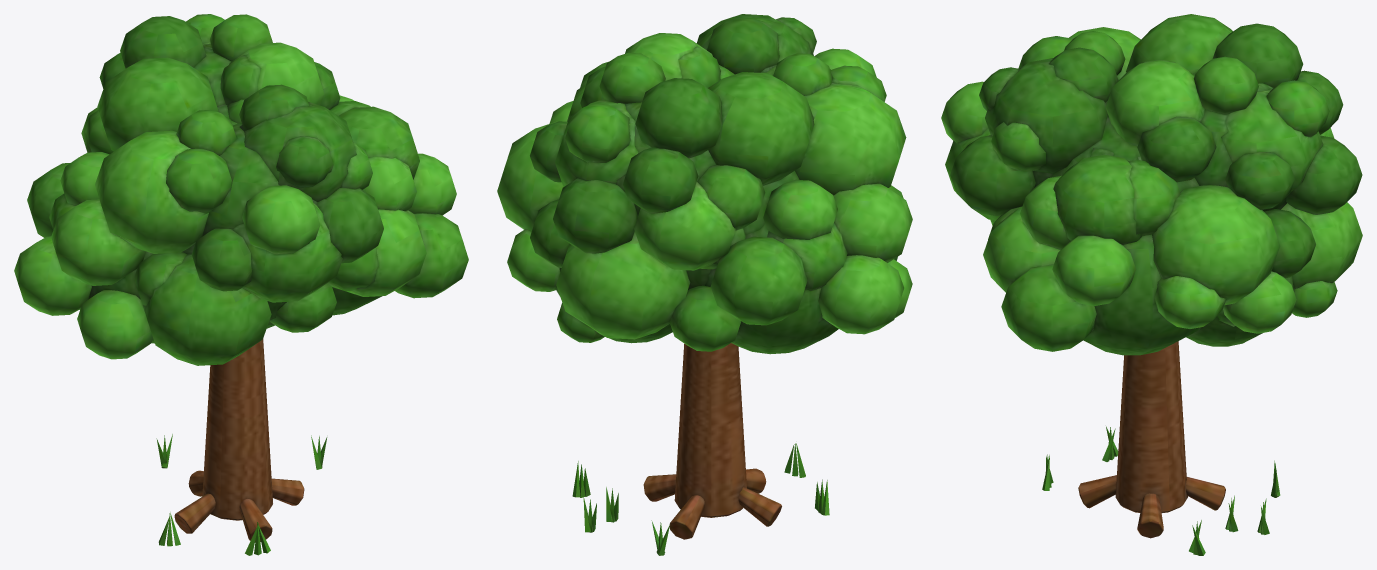
The model's file is apricot_tree.glb.
The picture shows the model from 3 angles, left to right: view 1: azimuth 30°, elevation 25°; view 2: azimuth 150°, elevation 25°; view 3: azimuth 270°, elevation 25°; orthographic projection. The views are drawn at different scales.
Parts seen in each view (by area): view 1: crown, apricot_tree; view 2: crown, apricot_tree; view 3: crown, apricot_tree.
Boxes of the visible parts, bbox=[...] form: crown: bbox=[14, 14, 468, 365]; apricot_tree: bbox=[156, 339, 327, 555]; crown: bbox=[497, 14, 912, 354]; apricot_tree: bbox=[572, 343, 829, 555]; crown: bbox=[941, 14, 1362, 355]; apricot_tree: bbox=[1042, 341, 1280, 555].
Bounding box in the file's own units: 1.13 × 1.29 × 1.04.
1 material, 1 textured.
